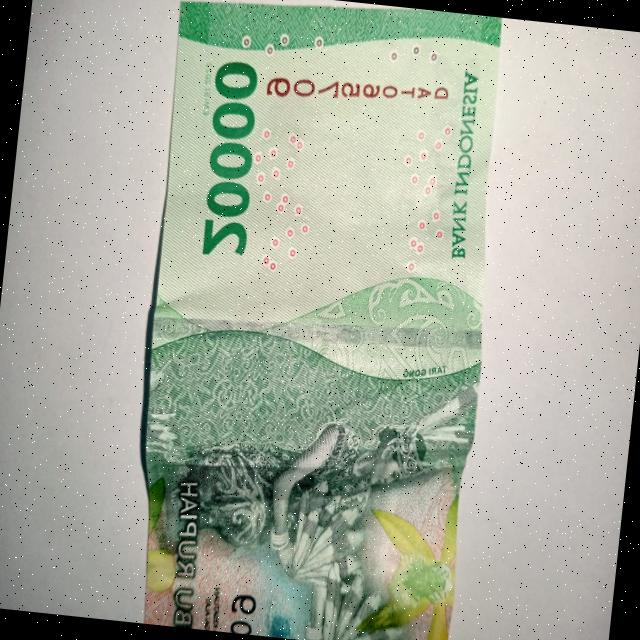20K: (106, 0, 519, 640)
